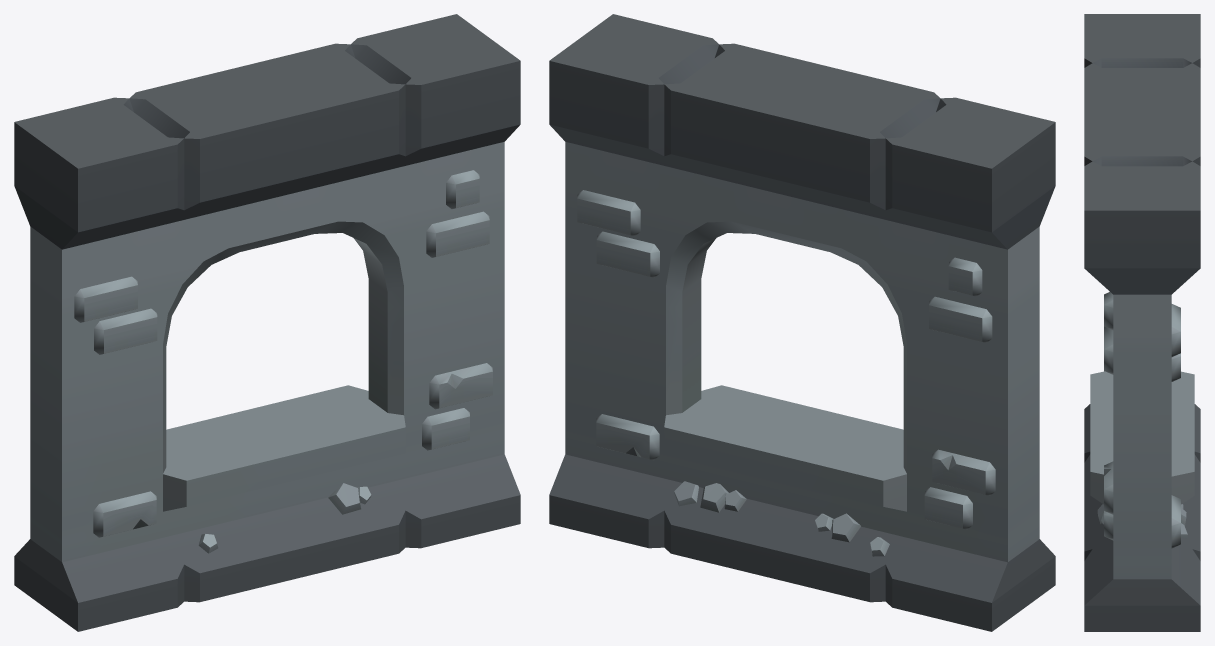
Rendered from wall_archedwindow_open.glb.
The picture shows the model from 3 angles, left to right: view 1: azimuth 30°, elevation 25°; view 2: azimuth 150°, elevation 25°; view 3: azimuth 270°, elevation 25°; orthographic projection. The views are drawn at different scales.
Parts seen in each view (by area): view 1: wall_archedwindow_open; view 2: wall_archedwindow_open; view 3: wall_archedwindow_open.
Part boxes in pixels (x1=…): wall_archedwindow_open: x1=14, y1=14, x2=520, y2=631; wall_archedwindow_open: x1=549, y1=14, x2=1055, y2=631; wall_archedwindow_open: x1=1084, y1=14, x2=1200, y2=631.
Bounding box in the file's own units: 4 × 4 × 1.
Materials: 1 (1 with a texture image).
